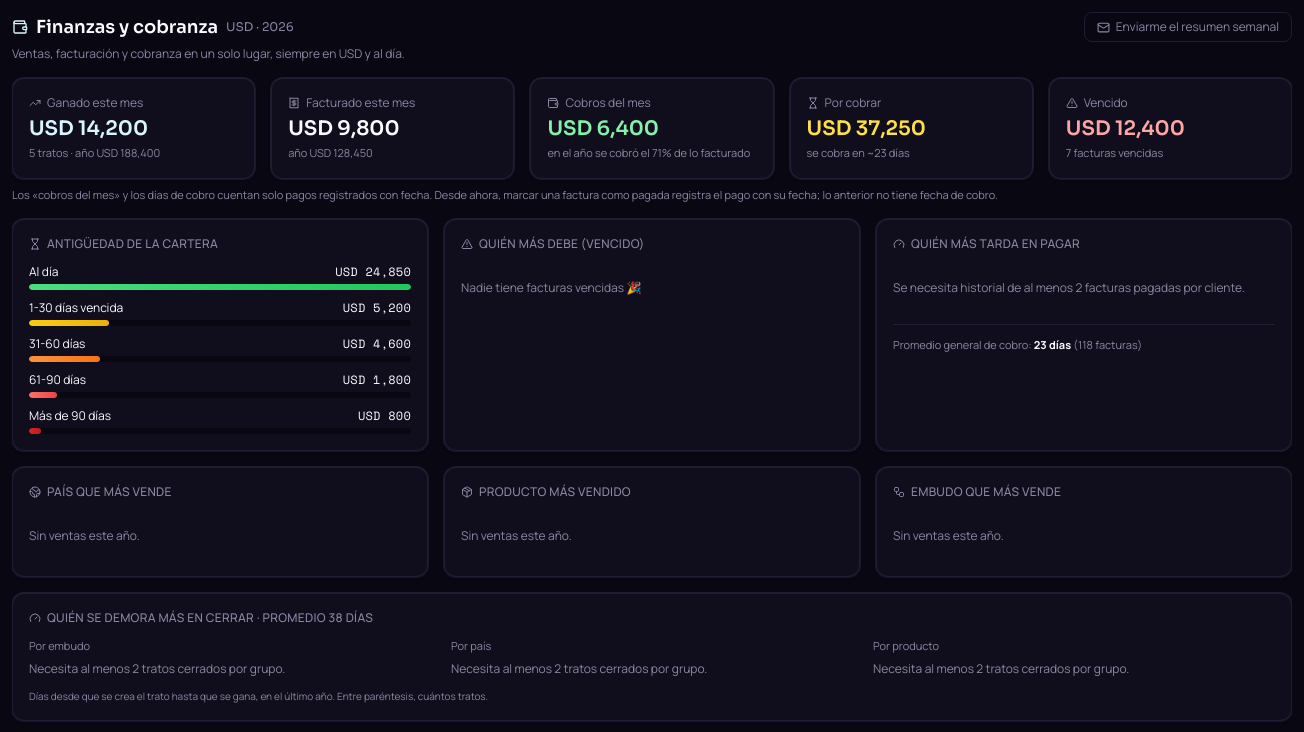
Test: Resumen semanal › «Enviarme el resumen semanal» lo pide al servidor y confirma a qué correo salió
The width and height of the screenshot is (1304, 732).
Click the button "Enviarme el resumen semanal" at (1188, 27), box [1084,12,1292,42]
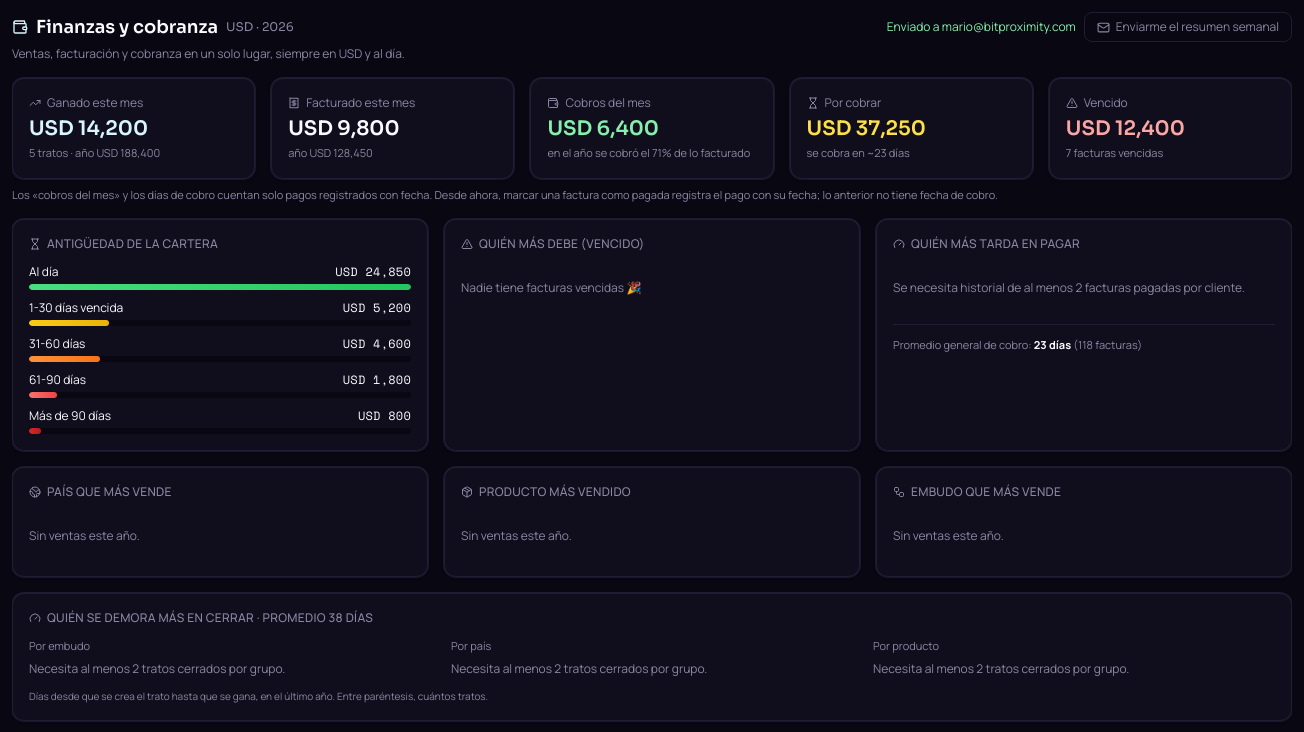
Expected: the text "Enviado a mario@bitproximity.com" is shown, [887,19,1076,35]
